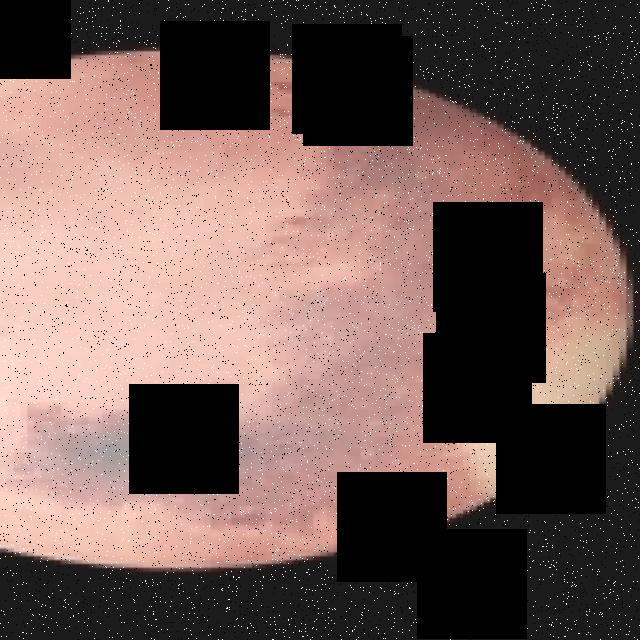Mars: (0, 47, 633, 570)
